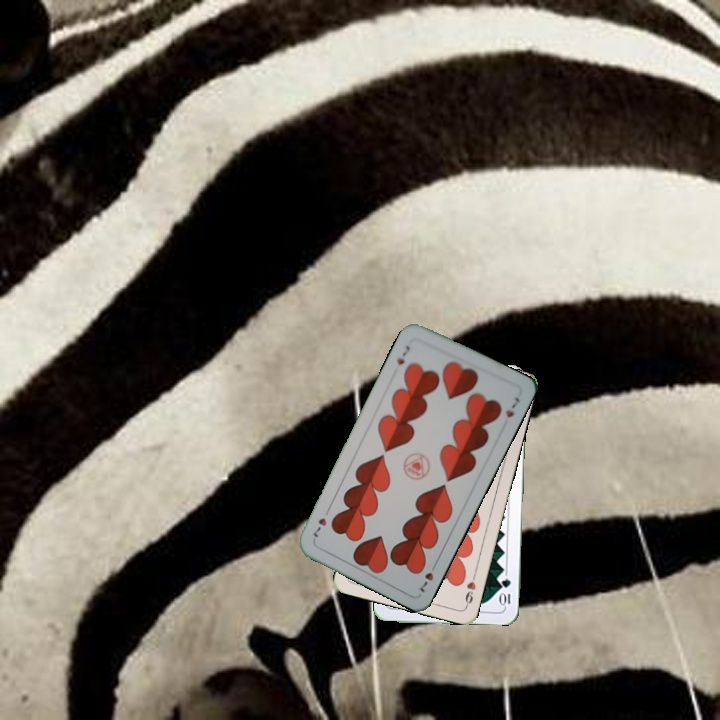G10: (497, 575, 513, 609)
H7: (416, 558, 440, 595), (393, 341, 413, 367)
H9: (461, 569, 479, 609)
